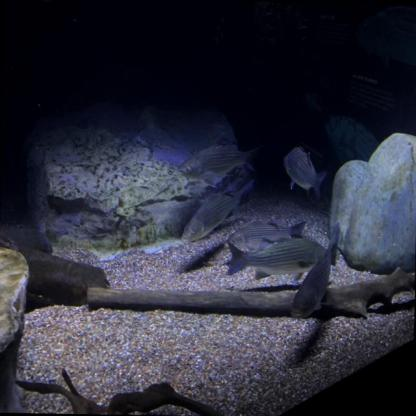fish: (180, 172, 256, 246), (224, 232, 329, 284), (289, 224, 343, 323), (175, 137, 264, 183), (226, 215, 308, 256), (280, 144, 329, 200)
